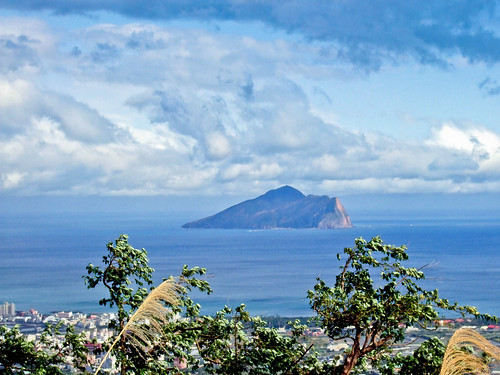turtleIsland: (189, 186, 356, 231)
